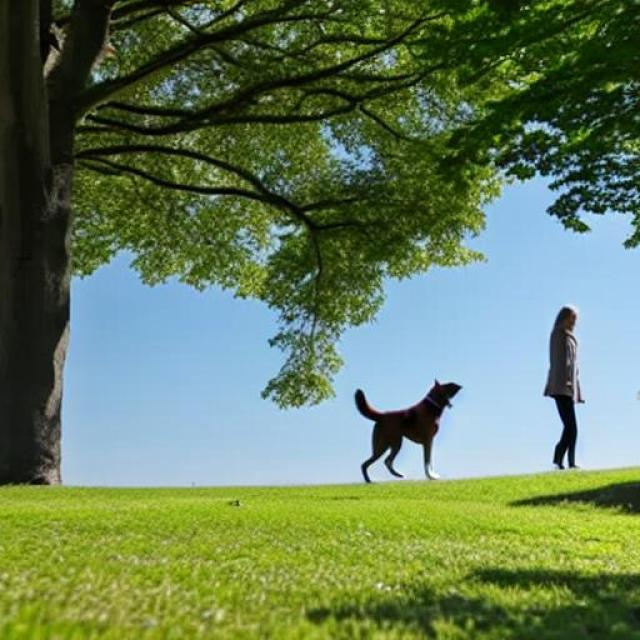Unleashed_Dog: (354, 373, 575, 483)
